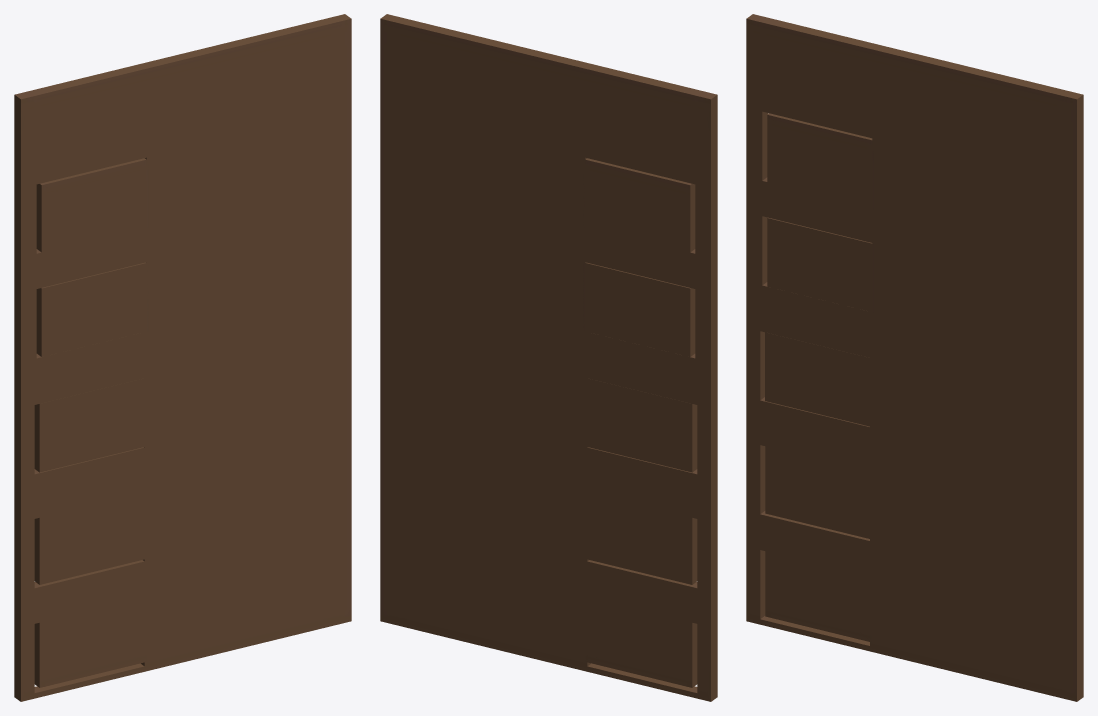
File: door_Right.obj
The picture shows the model from 3 angles, left to right: view 1: azimuth 30°, elevation 25°; view 2: azimuth 150°, elevation 25°; view 3: azimuth 330°, elevation 25°; orthographic projection.
Parts seen in each view (by area): view 1: polySurface323; view 2: polySurface323; view 3: polySurface323.
Part boxes in pixels (box(x1,y1,x2,y2)): polySurface323: box(14, 14, 351, 701); polySurface323: box(380, 14, 717, 701); polySurface323: box(746, 14, 1083, 701).
Size of the model in its own units: 6.98 by 12.15 by 0.2366.
